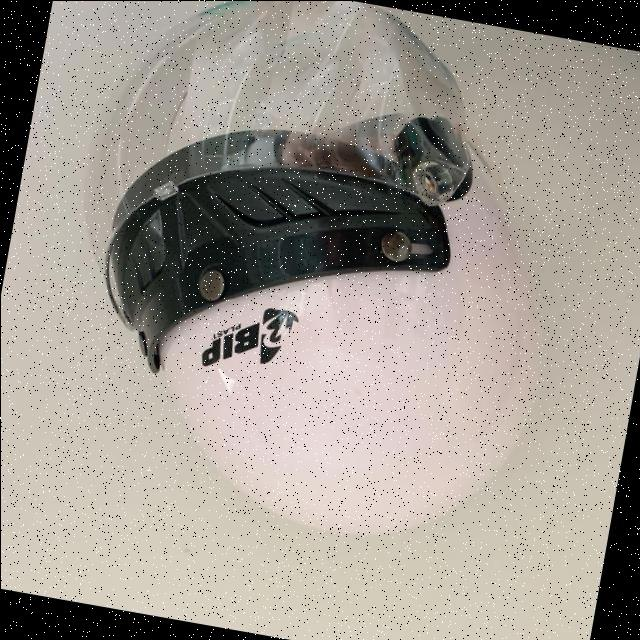Helm: (58, 0, 601, 577)
